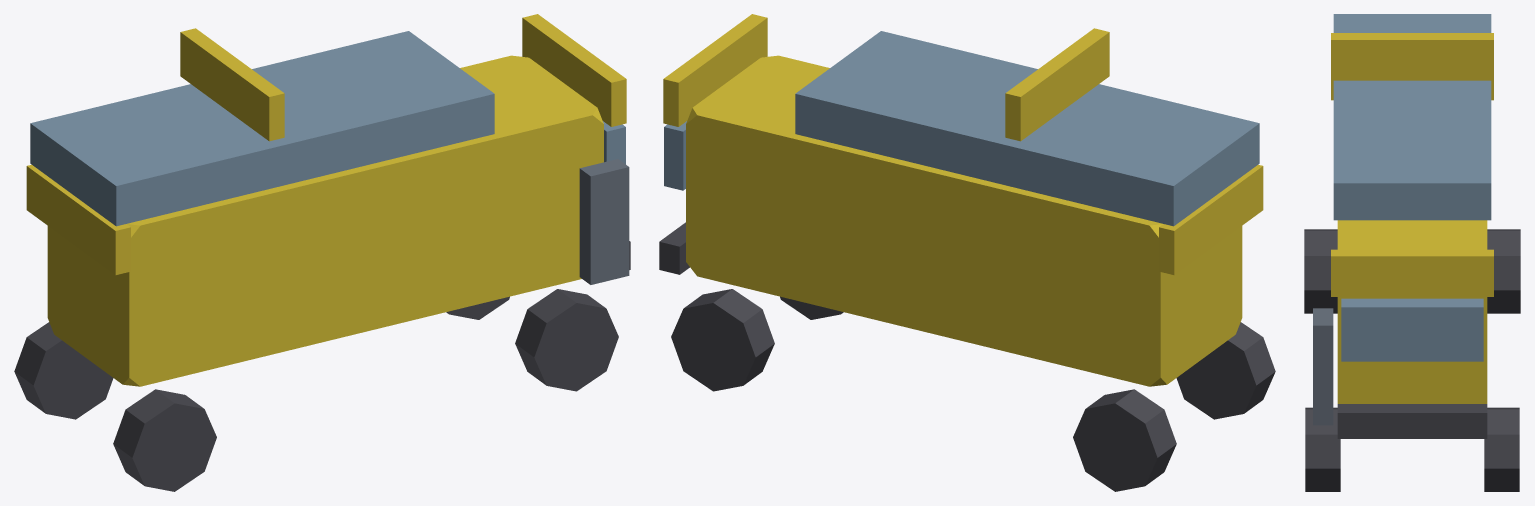
3 renders of one model, left to right at view 1: azimuth 30°, elevation 25°; view 2: azimuth 150°, elevation 25°; view 3: azimuth 270°, elevation 25°, orthographic. The views are drawn at different scales.
Parts seen in each view (by area): view 1: part0, part1, part11, part9, part3, part6, part10, part4, part2, part5; view 2: part0, part1, part10, part8, part3, part11, part4, part2, part5, part7; view 3: part1, part0, part5, part3, part4, part7, part8, part9, part10, part6, part11.
Boxes of the visible parts, x1,y1,x2,y2 form: part0: (47,55,603,386); part1: (30,31,494,226); part11: (113,389,216,491); part9: (515,289,618,391); part3: (180,28,284,141); part6: (579,159,629,284); part10: (14,322,113,419); part4: (522,14,626,126); part2: (26,164,130,275); part5: (603,121,625,164); part0: (686,55,1242,386); part1: (795,31,1259,226); part10: (1073,389,1176,491); part8: (671,289,774,391); part3: (1005,28,1109,141); part11: (1176,322,1275,419); part4: (663,14,767,126); part2: (1159,164,1263,275); part5: (664,121,686,190); part7: (659,222,689,274); part1: (1333,14,1491,220); part0: (1337,220,1487,403); part5: (1341,298,1483,361); part3: (1331,33,1493,80); part4: (1331,249,1493,296); part7: (1337,404,1487,438); part8: (1484,407,1519,491); part9: (1305,407,1340,491); part10: (1487,229,1520,313); part6: (1313,308,1333,425); part11: (1304,229,1337,313).
Size of the model in its own units: 8.09 by 5.32 by 3.19.
